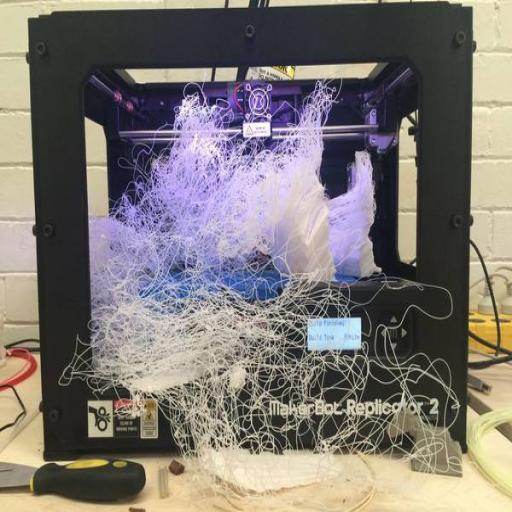spaghetti: (256, 150, 322, 206)
